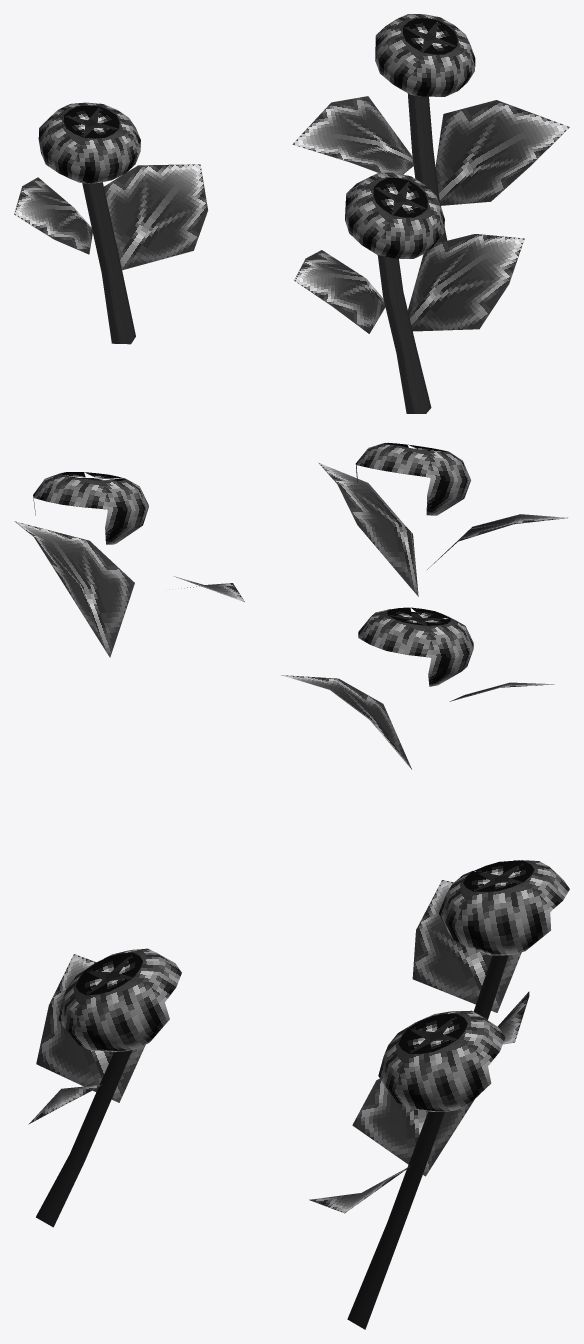
The model's file is PltFlwMum0.glb.
3 views of the same model, one above another, from view 1: azimuth 30°, elevation 25°; view 2: azimuth 150°, elevation 25°; view 3: azimuth 270°, elevation 25° (orthographic). The views are drawn at different scales.
Visible parts, largest first — view 1: Mum0A_FlowerB__mMumBody, Mum0A_FlowerA__mMumFlower; view 2: Mum0A_FlowerB__mMumBody, Mum0A_FlowerA__mMumFlower; view 3: Mum0A_FlowerB__mMumBody, Mum0A_FlowerA__mMumFlower.
Boxes of the visible parts, x1,y1,x2,y2 form: Mum0A_FlowerB__mMumBody: [14, 14, 569, 413]; Mum0A_FlowerA__mMumFlower: [63, 18, 457, 217]; Mum0A_FlowerB__mMumBody: [14, 443, 567, 769]; Mum0A_FlowerA__mMumFlower: [34, 442, 450, 657]; Mum0A_FlowerB__mMumBody: [28, 860, 569, 1329]; Mum0A_FlowerA__mMumFlower: [76, 860, 534, 1053].
Size of the model in its own units: 9.98 by 4.46 by 7.33.
2 materials, 2 textured.
